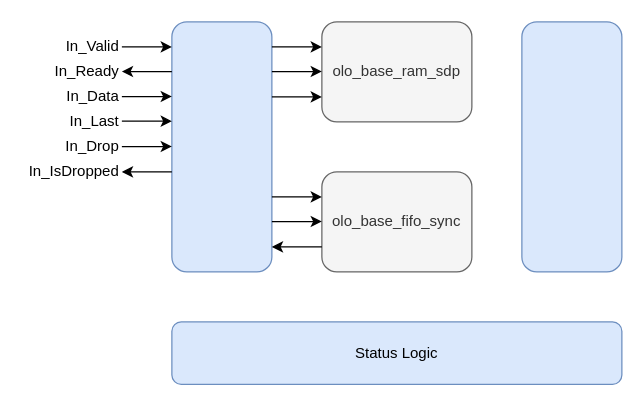
Some shapes in this 644 by 406 pixel diagram are drawn without their labels. Here are the shapes that lost their labels. From the top down, the box of each, then its label:
(171, 21, 272, 272): Write Logic
(521, 21, 622, 272): Read Logic
